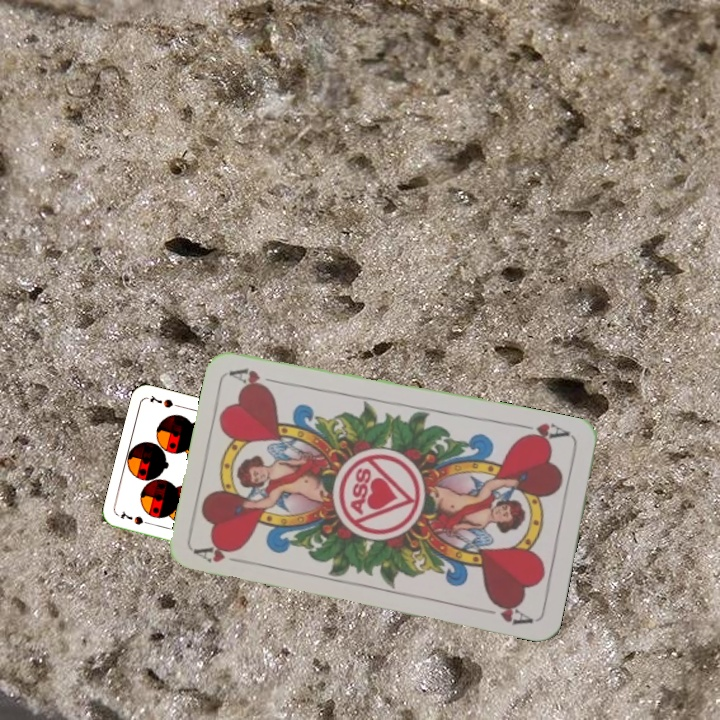HA: (192, 539, 251, 567), (515, 419, 573, 446)
S7: (116, 507, 156, 528)
